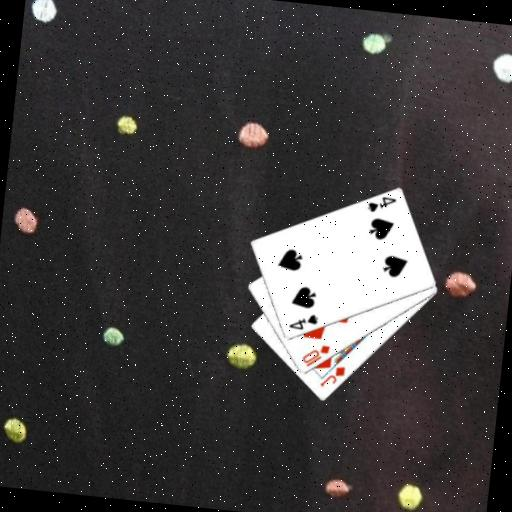10D: (299, 341, 332, 372)
4S: (364, 192, 398, 217), (286, 309, 320, 333)
JD: (317, 361, 348, 391)
